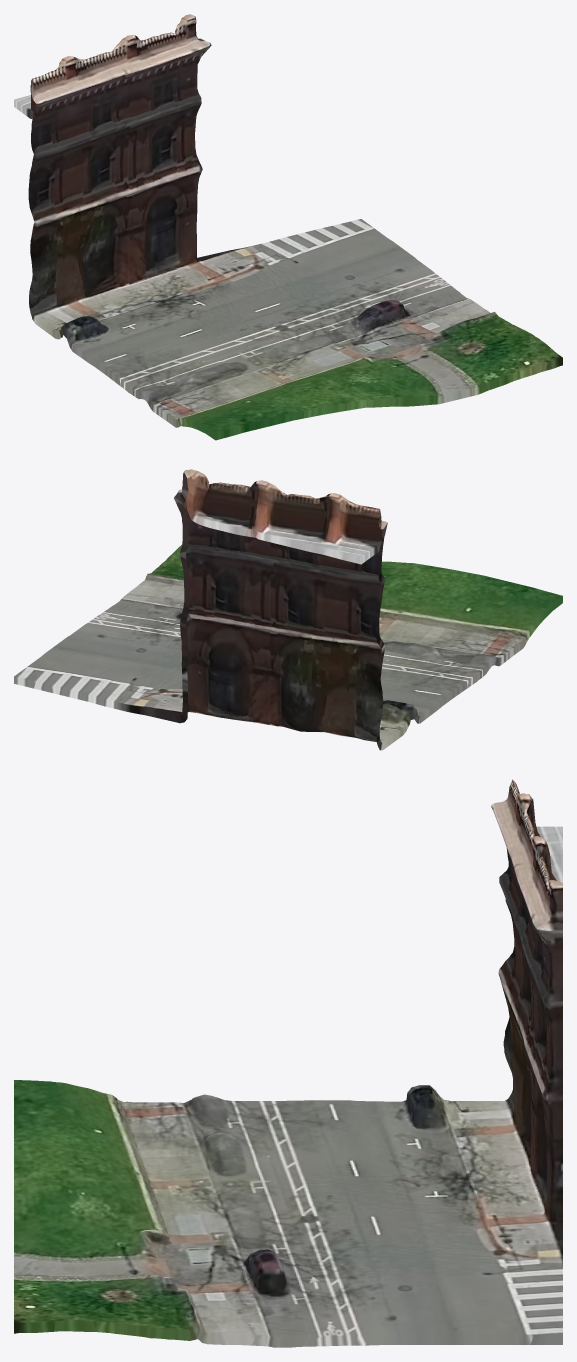
File: z20-167766-405192-h0-yup-uvflip-v3-world.glb
3 renders of one model, top to bottom at view 1: azimuth 30°, elevation 25°; view 2: azimuth 150°, elevation 25°; view 3: azimuth 270°, elevation 25°, orthographic. The views are drawn at different scales.
Bounding box in the file's own units: 30.16 × 21.28 × 30.32.
Materials: 1 (1 with a texture image).
